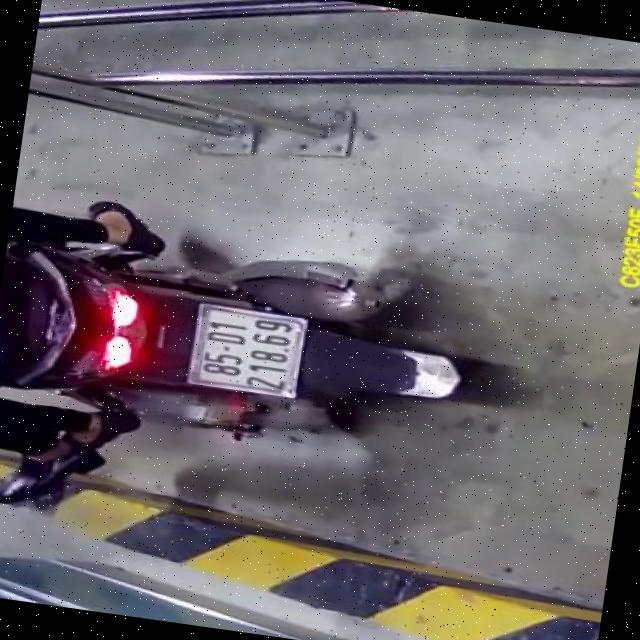license_plate: (185, 300, 308, 402)
